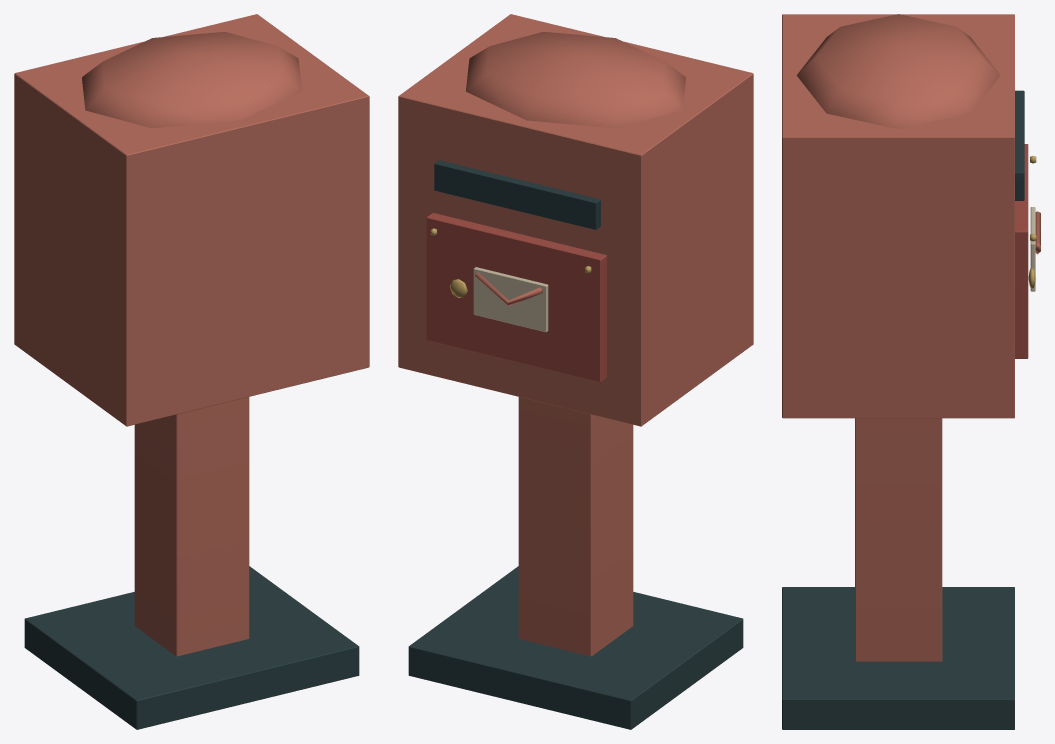
Rendered from mailbox_low.glb.
3 renders of one model, left to right at view 1: azimuth 30°, elevation 25°; view 2: azimuth 150°, elevation 25°; view 3: azimuth 270°, elevation 25°, orthographic. The views are drawn at different scales.
Bounding box in the file's own units: 0.6 × 1.43 × 0.533.
